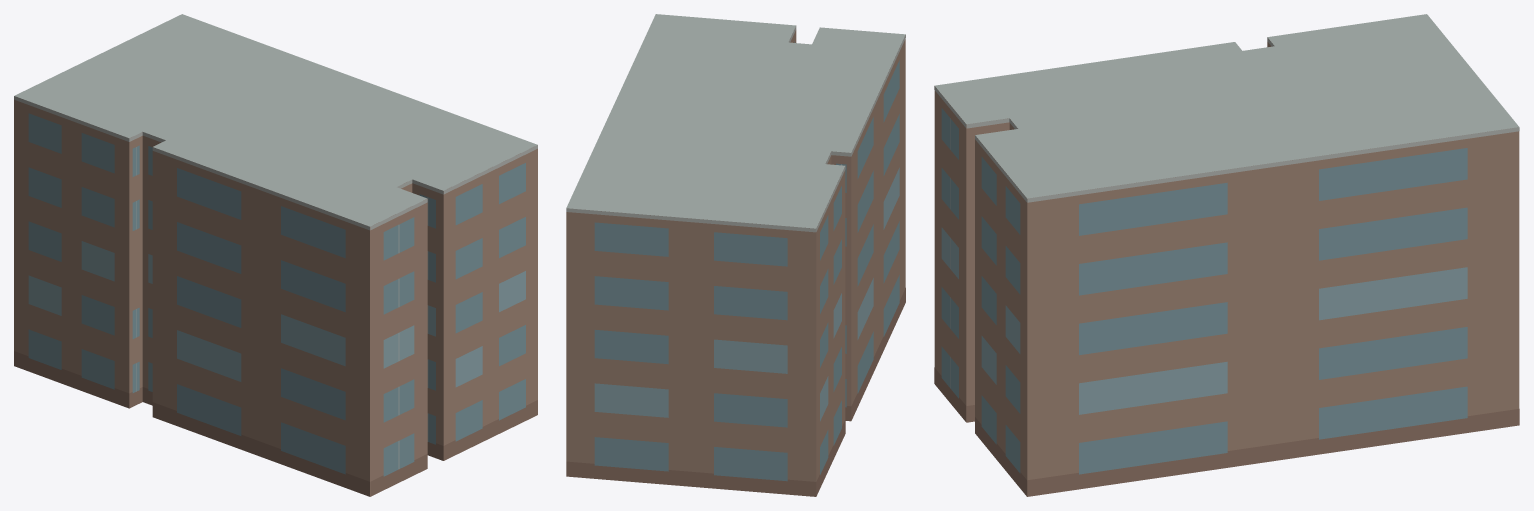
Rendered from survey-upis-32787807.glb.
The picture shows the model from 3 angles, left to right: view 1: azimuth 30°, elevation 25°; view 2: azimuth 150°, elevation 25°; view 3: azimuth 270°, elevation 25°; orthographic projection. The views are drawn at different scales.
Visible parts, largest first — view 1: survey-upis-32787807.tmp; view 2: survey-upis-32787807.tmp; view 3: survey-upis-32787807.tmp.
Boxes of the visible parts, <box> form: survey-upis-32787807.tmp: <box>14,14,537,496</box>; survey-upis-32787807.tmp: <box>566,14,905,496</box>; survey-upis-32787807.tmp: <box>934,14,1519,496</box>.
Size of the model in its own units: 23.11 by 17.4 by 30.94.
